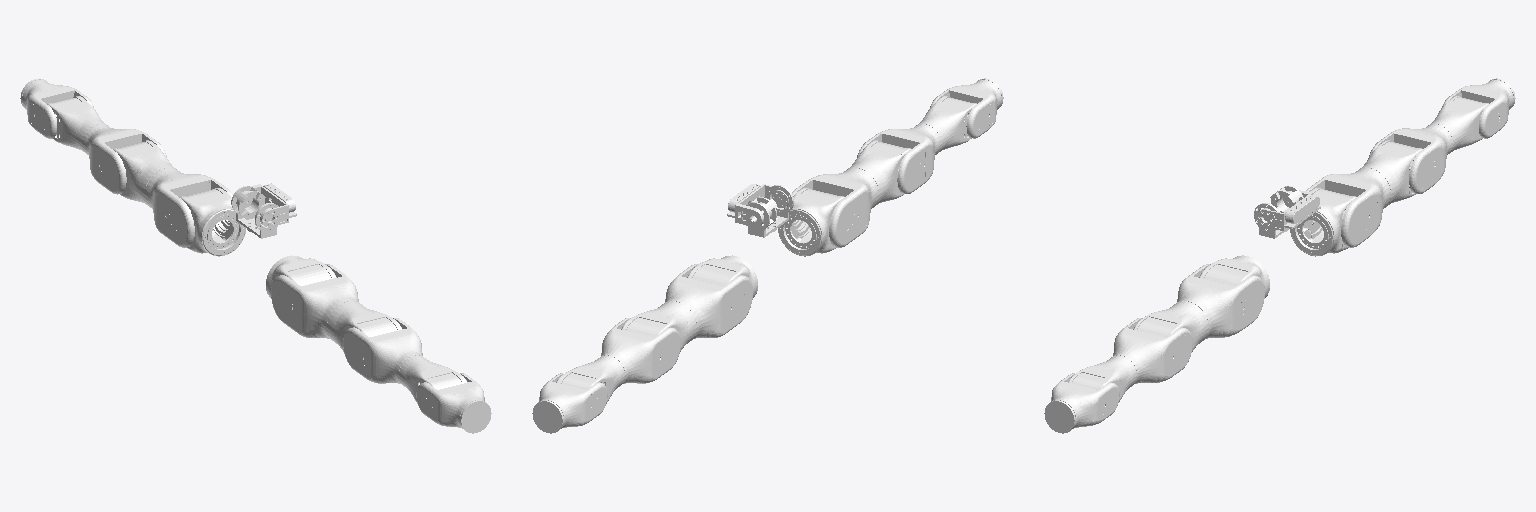
URDF robot description (shu_pr03):
<?xml version="1.0" encoding="utf-8"?>
<!-- This URDF was automatically created by SolidWorks to URDF Exporter! Originally created by Stephen Brawner (brawner@gmail.com) 
     Commit Version: 1.6.0-4-g7f85cfe  Build Version: 1.6.7995.38578
     For more information, please see http://wiki.ros.org/sw_urdf_exporter -->
<robot
  name="shu_pr03">
  <link
    name="base_link">
    <inertial>
      <origin
        xyz="0.000142803043263029 0.00257226900961791 -0.253491641440473"
        rpy="0 0 0" />
      <mass
        value="3.81243011908748" />
      <inertia
        ixx="0.0367037993908777"
        ixy="-3.00717250100034E-05"
        ixz="8.04545647630551E-07"
        iyy="0.0335739186517586"
        iyz="-1.07903733887167E-05"
        izz="0.0242460999448266" />
    </inertial>
    <visual>
      <origin
        xyz="0 0 0"
        rpy="0 0 0" />
      <geometry>
        <mesh
          filename="package://erob_description/meshes/base_link.STL" />
      </geometry>
      <material
        name="">
        <color
          rgba="0.752941176470588 0.752941176470588 0.752941176470588 1" />
      </material>
    </visual>
    <collision>
      <origin
        xyz="0 0 0"
        rpy="0 0 0" />
      <geometry>
        <mesh
          filename="package://erob_description/meshes/base_link_low.STL" />
      </geometry>
    </collision>
  </link>
  <link
    name="L_shoulder_1">
    <inertial>
      <origin
        xyz="-0.0316495841873101 0.0876970351324887 1.03954945596119E-07"
        rpy="0 0 0" />
      <mass
        value="0.0583662127067442" />
      <inertia
        ixx="8.70454107176563E-05"
        ixy="-4.49418533441545E-07"
        ixz="1.30502333237381E-11"
        iyy="5.83722225921585E-05"
        iyz="9.05520067421455E-11"
        izz="3.91504682187357E-05" />
    </inertial>
    <visual>
      <origin
        xyz="0 0 0"
        rpy="0 0 0" />
      <geometry>
        <mesh
          filename="package://erob_description/meshes/L_shoulder_1.STL" />
      </geometry>
      <material
        name="">
        <color
          rgba="1 1 1 1" />
      </material>
    </visual>
    <collision>
      <origin
        xyz="0 0 0"
        rpy="0 0 0" />
      <geometry>
        <mesh
          filename="package://erob_description/meshes/L_shoulder_1_low.STL" />
      </geometry>
    </collision>
  </link>
  <joint
    name="L_Joint_1"
    type="revolute">
    <origin
      xyz="0 0.12125 0"
      rpy="0 0 0" />
    <parent
      link="base_link" />
    <child
      link="L_shoulder_1" />
    <axis
      xyz="0 1 0" />
    <limit
      lower="-3.14"
      upper="3.14"
      effort="10"
      velocity="1" />
  </joint>
  <link
    name="L_shoulder_2">
    <inertial>
      <origin
        xyz="-0.000806846308950948 7.19790532838216E-06 -0.0541256547821431"
        rpy="0 0 0" />
      <mass
        value="0.354884998531738" />
      <inertia
        ixx="0.000926057022235404"
        ixy="9.38158254254901E-09"
        ixz="-0.000203502930755037"
        iyy="0.00101553381091218"
        iyz="1.50040428638811E-08"
        izz="0.00072160188389543" />
    </inertial>
    <visual>
      <origin
        xyz="0 0 0"
        rpy="0 0 0" />
      <geometry>
        <mesh
          filename="package://erob_description/meshes/L_shoulder_2.STL" />
      </geometry>
      <material
        name="">
        <color
          rgba="1 1 1 1" />
      </material>
    </visual>
    <collision>
      <origin
        xyz="0 0 0"
        rpy="0 0 0" />
      <geometry>
        <mesh
          filename="package://erob_description/meshes/L_shoulder_2_low.STL" />
      </geometry>
    </collision>
  </link>
  <joint
    name="L_Joint_2"
    type="revolute">
    <origin
      xyz="0 0.07875 0"
      rpy="1.5708 0 0" />
    <parent
      link="L_shoulder_1" />
    <child
      link="L_shoulder_2" />
    <axis
      xyz="1 0 0" />
    <limit
      lower="-1.57"
      upper="1.57"
      effort="10"
      velocity="1" />
  </joint>
  <link
    name="L_shoulder_3">
    <inertial>
      <origin
        xyz="-0.028173948373643 3.12268663857362E-07 -0.120975211869893"
        rpy="0 0 0" />
      <mass
        value="0.0451397306440301" />
      <inertia
        ixx="5.44670832775202E-05"
        ixy="4.04285673310756E-11"
        ixz="-2.38081150868617E-08"
        iyy="2.57895714674165E-05"
        iyz="-2.1284511486762E-10"
        izz="3.62117382012054E-05" />
    </inertial>
    <visual>
      <origin
        xyz="0 0 0"
        rpy="0 0 0" />
      <geometry>
        <mesh
          filename="package://erob_description/meshes/L_shoulder_3.STL" />
      </geometry>
      <material
        name="">
        <color
          rgba="1 1 1 1" />
      </material>
    </visual>
    <collision>
      <origin
        xyz="0 0 0"
        rpy="0 0 0" />
      <geometry>
        <mesh
          filename="package://erob_description/meshes/L_shoulder_3_low.STL" />
      </geometry>
    </collision>
  </link>
  <joint
    name="L_Joint_3"
    type="revolute">
    <origin
      xyz="0 0 -0.14525"
      rpy="0 0 0" />
    <parent
      link="L_shoulder_2" />
    <child
      link="L_shoulder_3" />
    <axis
      xyz="0 0 -1" />
    <limit
      lower="-3.14"
      upper="3.14"
      effort="10"
      velocity="1" />
  </joint>
  <link
    name="L_elbow">
    <inertial>
      <origin
        xyz="0.00255124883417135 5.18567959731375E-06 -0.0523161872028072"
        rpy="0 0 0" />
      <mass
        value="0.275804426908576" />
      <inertia
        ixx="0.000592384378540585"
        ixy="3.67649594757611E-09"
        ixz="-0.000137373682701266"
        iyy="0.000667954025206023"
        iyz="-4.00030218684643E-08"
        izz="0.000454311050303624" />
    </inertial>
    <visual>
      <origin
        xyz="0 0 0"
        rpy="0 0 0" />
      <geometry>
        <mesh
          filename="package://erob_description/meshes/L_elbow.STL" />
      </geometry>
      <material
        name="">
        <color
          rgba="1 1 1 1" />
      </material>
    </visual>
    <collision>
      <origin
        xyz="0 0 0"
        rpy="0 0 0" />
      <geometry>
        <mesh
          filename="package://erob_description/meshes/L_elbow_low.STL" />
      </geometry>
    </collision>
  </link>
  <joint
    name="L_Joint_4"
    type="revolute">
    <origin
      xyz="-0.0002495 0 -0.11475"
      rpy="0 0 0" />
    <parent
      link="L_shoulder_3" />
    <child
      link="L_elbow" />
    <axis
      xyz="1 0 0" />
    <limit
      lower="-1.57"
      upper="1.57"
      effort="10"
      velocity="1" />
  </joint>
  <link
    name="L_wrist_1">
    <inertial>
      <origin
        xyz="0.00201199076396236 5.328605041377E-07 -0.0673661823854693"
        rpy="0 0 0" />
      <mass
        value="0.160243674417616" />
      <inertia
        ixx="0.000270966474156959"
        ixy="-6.76953685935804E-09"
        ixz="3.15040567153945E-05"
        iyy="0.000284325340159115"
        iyz="-6.27256128806016E-09"
        izz="0.00017185870892482" />
    </inertial>
    <visual>
      <origin
        xyz="0 0 0"
        rpy="0 0 0" />
      <geometry>
        <mesh
          filename="package://erob_description/meshes/L_wrist_1.STL" />
      </geometry>
      <material
        name="">
        <color
          rgba="1 1 1 1" />
      </material>
    </visual>
    <collision>
      <origin
        xyz="0 0 0"
        rpy="0 0 0" />
      <geometry>
        <mesh
          filename="package://erob_description/meshes/L_wrist_1_low.STL" />
      </geometry>
    </collision>
  </link>
  <joint
    name="L_Joint_5"
    type="revolute">
    <origin
      xyz="0.0002495 0 -0.13925"
      rpy="0 0 0" />
    <parent
      link="L_elbow" />
    <child
      link="L_wrist_1" />
    <axis
      xyz="0 0 -1" />
    <limit
      lower="-3.14"
      upper="3.14"
      effort="10"
      velocity="1" />
  </joint>
  <link
    name="L_wrist_2">
    <inertial>
      <origin
        xyz="0.000131983503963817 2.03138850603246E-06 -0.0435857234048572"
        rpy="0 0 0" />
      <mass
        value="0.149600926579204" />
      <inertia
        ixx="0.000210216664542335"
        ixy="1.89625011418256E-08"
        ixz="-5.4258220312466E-05"
        iyy="0.000270899860229319"
        iyz="3.9500151112895E-08"
        izz="0.000198572811784655" />
    </inertial>
    <visual>
      <origin
        xyz="0 0 0"
        rpy="0 0 0" />
      <geometry>
        <mesh
          filename="package://erob_description/meshes/L_wrist_2.STL" />
      </geometry>
      <material
        name="">
        <color
          rgba="1 1 1 1" />
      </material>
    </visual>
    <collision>
      <origin
        xyz="0 0 0"
        rpy="0 0 0" />
      <geometry>
        <mesh
          filename="package://erob_description/meshes/L_wrist_2_low.STL" />
      </geometry>
    </collision>
  </link>
  <joint
    name="L_Joint_6"
    type="revolute">
    <origin
      xyz="0 0 -0.12075"
      rpy="0 0 0" />
    <parent
      link="L_wrist_1" />
    <child
      link="L_wrist_2" />
    <axis
      xyz="1 0 0" />
    <limit
      lower="-1.57"
      upper="1.57"
      effort="10"
      velocity="1" />
  </joint>
  <link
    name="L_wrist_3">
    <inertial>
      <origin
        xyz="-6.26653728907911E-11 -2.41230507791457E-11 -0.00299999999557188"
        rpy="0 0 0" />
      <mass
        value="0.0171059719987964" />
      <inertia
        ixx="4.69273831833649E-06"
        ixy="1.86115953368793E-23"
        ixz="2.81982774112557E-17"
        iyy="4.69273831833649E-06"
        iyz="5.00531691662904E-18"
        izz="9.31420175334466E-06" />
    </inertial>
    <visual>
      <origin
        xyz="0 0 0"
        rpy="0 0 0" />
      <geometry>
        <mesh
          filename="package://erob_description/meshes/L_wrist_3.STL" />
      </geometry>
      <material
        name="">
        <color
          rgba="1 1 1 1" />
      </material>
    </visual>
    <collision>
      <origin
        xyz="0 0 0"
        rpy="0 0 0" />
      <geometry>
        <mesh
          filename="package://erob_description/meshes/L_wrist_3_low.STL" />
      </geometry>
    </collision>
  </link>
  <joint
    name="L_Joint_7"
    type="revolute">
    <origin
      xyz="0 0 -0.1105"
      rpy="0 0 0" />
    <parent
      link="L_wrist_2" />
    <child
      link="L_wrist_3" />
    <axis
      xyz="0 0 -1" />
    <limit
      lower="-3.14"
      upper="3.14"
      effort="10"
      velocity="1" />
  </joint>
  <link
    name="R_shoulder_1">
    <inertial>
      <origin
        xyz="-0.0316495845531163 -0.0876970349353597 -1.03926649175357E-07"
        rpy="0 0 0" />
      <mass
        value="0.0583662127067446" />
      <inertia
        ixx="8.70454107214253E-05"
        ixy="4.49418413216039E-07"
        ixz="-1.30502294074232E-11"
        iyy="5.83722225883896E-05"
        iyz="9.05520072453197E-11"
        izz="3.91504682187357E-05" />
    </inertial>
    <visual>
      <origin
        xyz="0 0 0"
        rpy="0 0 0" />
      <geometry>
        <mesh
          filename="package://erob_description/meshes/R_shoulder_1.STL" />
      </geometry>
      <material
        name="">
        <color
          rgba="1 1 1 1" />
      </material>
    </visual>
    <collision>
      <origin
        xyz="0 0 0"
        rpy="0 0 0" />
      <geometry>
        <mesh
          filename="package://erob_description/meshes/R_shoulder_1_low.STL" />
      </geometry>
    </collision>
  </link>
  <joint
    name="R_Joint_1"
    type="revolute">
    <origin
      xyz="0 -0.12125 0"
      rpy="0 0 0" />
    <parent
      link="base_link" />
    <child
      link="R_shoulder_1" />
    <axis
      xyz="0 -1 0" />
    <limit
      lower="-3.14"
      upper="3.14"
      effort="10"
      velocity="1" />
  </joint>
  <link
    name="R_shoulder_2">
    <inertial>
      <origin
        xyz="-0.000806846416427642 7.19800235104984E-06 -0.0541256548563906"
        rpy="0 0 0" />
      <mass
        value="0.354884999822818" />
      <inertia
        ixx="0.000926057022187813"
        ixy="9.38288628750575E-09"
        ixz="-0.000203502931355258"
        iyy="0.00101553381179031"
        iyz="1.50040214128084E-08"
        izz="0.000721601884814612" />
    </inertial>
    <visual>
      <origin
        xyz="0 0 0"
        rpy="0 0 0" />
      <geometry>
        <mesh
          filename="package://erob_description/meshes/R_shoulder_2.STL" />
      </geometry>
      <material
        name="">
        <color
          rgba="1 1 1 1" />
      </material>
    </visual>
    <collision>
      <origin
        xyz="0 0 0"
        rpy="0 0 0" />
      <geometry>
        <mesh
          filename="package://erob_description/meshes/R_shoulder_2_low.STL" />
      </geometry>
    </collision>
  </link>
  <joint
    name="R_Joint_2"
    type="revolute">
    <origin
      xyz="0 -0.07875 0"
      rpy="-1.5708 0 0" />
    <parent
      link="R_shoulder_1" />
    <child
      link="R_shoulder_2" />
    <axis
      xyz="1 0 0" />
    <limit
      lower="-1.57"
      upper="1.57"
      effort="10"
      velocity="1" />
  </joint>
  <link
    name="R_shoulder_3">
    <inertial>
      <origin
        xyz="-0.0281739482816614 3.11148943221706E-07 -0.120975211873102"
        rpy="0 0 0" />
      <mass
        value="0.0451397306440303" />
      <inertia
        ixx="5.44670832775175E-05"
        ixy="4.157485512861E-11"
        ixz="-2.38081148537813E-08"
        iyy="2.57895714674199E-05"
        iyz="-2.12846066444746E-10"
        izz="3.62117382012045E-05" />
    </inertial>
    <visual>
      <origin
        xyz="0 0 0"
        rpy="0 0 0" />
      <geometry>
        <mesh
          filename="package://erob_description/meshes/R_shoulder_3.STL" />
      </geometry>
      <material
        name="">
        <color
          rgba="1 1 1 1" />
      </material>
    </visual>
    <collision>
      <origin
        xyz="0 0 0"
        rpy="0 0 0" />
      <geometry>
        <mesh
          filename="package://erob_description/meshes/R_shoulder_3_low.STL" />
      </geometry>
    </collision>
  </link>
  <joint
    name="R_Joint_3"
    type="revolute">
    <origin
      xyz="0 0 -0.14525"
      rpy="0 0 0" />
    <parent
      link="R_shoulder_2" />
    <child
      link="R_shoulder_3" />
    <axis
      xyz="0 0 -1" />
    <limit
      lower="-3.14"
      upper="3.14"
      effort="10"
      velocity="1" />
  </joint>
  <link
    name="R_elbow">
    <inertial>
      <origin
        xyz="0.00255124883380303 5.18568142449105E-06 -0.0523161872027784"
        rpy="0 0 0" />
      <mass
        value="0.275804426908586" />
      <inertia
        ixx="0.000592384378543926"
        ixy="3.67603954480181E-09"
        ixz="-0.000137373682699367"
        iyy="0.000667954025206063"
        iyz="-4.00038429506942E-08"
        izz="0.00045431105030028" />
    </inertial>
    <visual>
      <origin
        xyz="0 0 0"
        rpy="0 0 0" />
      <geometry>
        <mesh
          filename="package://erob_description/meshes/R_elbow.STL" />
      </geometry>
      <material
        name="">
        <color
          rgba="1 1 1 1" />
      </material>
    </visual>
    <collision>
      <origin
        xyz="0 0 0"
        rpy="0 0 0" />
      <geometry>
        <mesh
          filename="package://erob_description/meshes/R_elbow_low.STL" />
      </geometry>
    </collision>
  </link>
  <joint
    name="R_Joint_4"
    type="revolute">
    <origin
      xyz="-0.0002495 0 -0.11475"
      rpy="0 0 0" />
    <parent
      link="R_shoulder_3" />
    <child
      link="R_elbow" />
    <axis
      xyz="1 0 0" />
    <limit
      lower="-1.57"
      upper="1.57"
      effort="10"
      velocity="1" />
  </joint>
  <link
    name="R_wrist_1">
    <inertial>
      <origin
        xyz="0.00201199088857457 5.33015758530375E-07 -0.0673661823852247"
        rpy="0 0 0" />
      <mass
        value="0.160243674417618" />
      <inertia
        ixx="0.00027096647415698"
        ixy="-6.77031216076525E-09"
        ixz="3.15040567169794E-05"
        iyy="0.000284325340158321"
        iyz="-6.27074200130867E-09"
        izz="0.0001718587089256" />
    </inertial>
    <visual>
      <origin
        xyz="0 0 0"
        rpy="0 0 0" />
      <geometry>
        <mesh
          filename="package://erob_description/meshes/R_wrist_1.STL" />
      </geometry>
      <material
        name="">
        <color
          rgba="1 1 1 1" />
      </material>
    </visual>
    <collision>
      <origin
        xyz="0 0 0"
        rpy="0 0 0" />
      <geometry>
        <mesh
          filename="package://erob_description/meshes/R_wrist_1_low.STL" />
      </geometry>
    </collision>
  </link>
  <joint
    name="R_Joint_5"
    type="revolute">
    <origin
      xyz="0.0002495 0 -0.13925"
      rpy="0 0 0" />
    <parent
      link="R_elbow" />
    <child
      link="R_wrist_1" />
    <axis
      xyz="0 0 -1" />
    <limit
      lower="-3.14"
      upper="3.14"
      effort="10"
      velocity="1" />
  </joint>
  <link
    name="R_wrist_2">
    <inertial>
      <origin
        xyz="0.000131988425529694 2.03501598999845E-06 -0.0435857248604233"
        rpy="0 0 0" />
      <mass
        value="0.149600947448649" />
      <inertia
        ixx="0.000210216676861299"
        ixy="1.89466849564258E-08"
        ixz="-5.42582200545982E-05"
        iyy="0.000270899872367118"
        iyz="3.94998703749154E-08"
        izz="0.000198572842391198" />
    </inertial>
    <visual>
      <origin
        xyz="0 0 0"
        rpy="0 0 0" />
      <geometry>
        <mesh
          filename="package://erob_description/meshes/R_wrist_2.STL" />
      </geometry>
      <material
        name="">
        <color
          rgba="1 1 1 1" />
      </material>
    </visual>
    <collision>
      <origin
        xyz="0 0 0"
        rpy="0 0 0" />
      <geometry>
        <mesh
          filename="package://erob_description/meshes/R_wrist_2_low.STL" />
      </geometry>
    </collision>
  </link>
  <joint
    name="R_Joint_6"
    type="revolute">
    <origin
      xyz="0 0 -0.12075"
      rpy="0 0 0" />
    <parent
      link="R_wrist_1" />
    <child
      link="R_wrist_2" />
    <axis
      xyz="1 0 0" />
    <limit
      lower="-1.57"
      upper="1.57"
      effort="10"
      velocity="1" />
  </joint>
  <link
    name="R_wrist_3">
    <inertial>
      <origin
        xyz="3.68952207674411E-09 -2.66239252866285E-11 -0.00300000081465168"
        rpy="0 0 0" />
      <mass
        value="0.0171059719987964" />
      <inertia
        ixx="4.69273831833649E-06"
        ixy="2.42639643798554E-23"
        ixz="-2.86013603914413E-17"
        iyy="4.69273831833649E-06"
        iyz="1.0902209969118E-15"
        izz="9.31420175334466E-06" />
    </inertial>
    <visual>
      <origin
        xyz="0 0 0"
        rpy="0 0 0" />
      <geometry>
        <mesh
          filename="package://erob_description/meshes/R_wrist_3.STL" />
      </geometry>
      <material
        name="">
        <color
          rgba="1 1 1 1" />
      </material>
    </visual>
    <collision>
      <origin
        xyz="0 0 0"
        rpy="0 0 0" />
      <geometry>
        <mesh
          filename="package://erob_description/meshes/R_wrist_3_low.STL" />
      </geometry>
    </collision>
  </link>
  <joint
    name="R_Joint_7"
    type="revolute">
    <origin
      xyz="0 0 -0.1105"
      rpy="0 0 0" />
    <parent
      link="R_wrist_2" />
    <child
      link="R_wrist_3" />
    <axis
      xyz="0 0 -1" />
    <limit
      lower="-3.14"
      upper="3.14"
      effort="10"
      velocity="1" />
  </joint>
  <link
    name="neck">
    <inertial>
      <origin
        xyz="-8.52810377871549E-10 0.0113276831075547 0.0286992085248887"
        rpy="0 0 0" />
      <mass
        value="0.0696595700882319" />
      <inertia
        ixx="5.01396904582493E-05"
        ixy="1.21732155996568E-12"
        ixz="-6.7633344896566E-13"
        iyy="3.39804568425215E-05"
        iyz="8.97794535172739E-06"
        izz="4.3485065566172E-05" />
    </inertial>
    <visual>
      <origin
        xyz="0 0 0"
        rpy="0 0 0" />
      <geometry>
        <mesh
          filename="package://erob_description/meshes/neck.STL" />
      </geometry>
      <material
        name="">
        <color
          rgba="1 1 1 1" />
      </material>
    </visual>
    <collision>
      <origin
        xyz="0 0 0"
        rpy="0 0 0" />
      <geometry>
        <mesh
          filename="package://erob_description/meshes/neck_low.STL" />
      </geometry>
    </collision>
  </link>
  <joint
    name="neck_joint"
    type="revolute">
    <origin
      xyz="0 0 0.0595"
      rpy="0 0 0" />
    <parent
      link="base_link" />
    <child
      link="neck" />
    <axis
      xyz="0 0 -1" />
    <limit
      lower="-1.5708"
      upper="1.5708"
      effort="10"
      velocity="1" />
  </joint>
  <link
    name="head">
    <inertial>
      <origin
        xyz="0.0381388417137068 0.00060642251132495 0.00387580812698762"
        rpy="0 0 0" />
      <mass
        value="0.0851674722464805" />
      <inertia
        ixx="7.90670828652549E-05"
        ixy="-1.26302309740786E-05"
        ixz="8.23134546885499E-07"
        iyy="2.20260286791449E-05"
        iyz="6.23762888522944E-07"
        izz="8.77106038481213E-05" />
    </inertial>
    <visual>
      <origin
        xyz="0 0 0"
        rpy="0 0 0" />
      <geometry>
        <mesh
          filename="package://erob_description/meshes/head.STL" />
      </geometry>
      <material
        name="">
        <color
          rgba="1 1 1 1" />
      </material>
    </visual>
    <collision>
      <origin
        xyz="0 0 0"
        rpy="0 0 0" />
      <geometry>
        <mesh
          filename="package://erob_description/meshes/head_low.STL" />
      </geometry>
    </collision>
  </link>
  <joint
    name="head_joint"
    type="revolute">
    <origin
      xyz="0 0 0.0405"
      rpy="0 0 0" />
    <parent
      link="neck" />
    <child
      link="head" />
    <axis
      xyz="0 -1 0" />
    <limit
      lower="0"
      upper="3.14159"
      effort="10"
      velocity="1" />
  </joint>
</robot>

--- What the picture shows (computed from the rendered views, not written in the file) ---
Views: 3 orthographic renders of the robot side by side, from view 1: azimuth 30°, elevation 25°; view 2: azimuth 150°, elevation 25°; view 3: azimuth 330°, elevation 25°.
Robot: shu_pr03 — 17 links, 16 joints (16 revolute); root link base_link; default pose: every joint at zero.
Links seen in each view (by area): view 1: R_shoulder_2, L_shoulder_2, R_elbow, L_shoulder_1, L_elbow, R_wrist_2, L_shoulder_3, L_wrist_2, R_shoulder_3, L_wrist_1, R_wrist_1, neck (+3 smaller); view 2: L_shoulder_2, R_shoulder_2, L_elbow, R_shoulder_1, R_elbow, L_wrist_2, R_shoulder_3, R_wrist_2, L_shoulder_3, R_wrist_1, L_wrist_1, L_shoulder_1 (+3 smaller); view 3: R_shoulder_2, L_shoulder_2, R_elbow, L_elbow, L_shoulder_1, R_wrist_2, L_shoulder_3, L_wrist_2, R_shoulder_3, L_wrist_1, R_wrist_1, R_shoulder_1 (+3 smaller).
Boxes of the visible links, <box> form: R_shoulder_2: <box>271,264,358,338</box>; L_shoulder_2: <box>145,168,233,247</box>; R_elbow: <box>343,318,422,383</box>; L_shoulder_1: <box>179,188,245,256</box>; L_elbow: <box>83,124,166,194</box>; R_wrist_2: <box>416,373,484,428</box>; L_shoulder_3: <box>113,140,176,207</box>; L_wrist_2: <box>22,80,93,138</box>; R_shoulder_3: <box>327,301,402,351</box>; L_wrist_1: <box>47,96,107,152</box>; R_wrist_1: <box>399,355,467,403</box>; neck: <box>231,186,278,238</box>; L_shoulder_2: <box>665,264,752,338</box>; R_shoulder_2: <box>784,168,878,247</box>; L_elbow: <box>601,318,680,383</box>; R_shoulder_1: <box>778,188,844,256</box>; R_elbow: <box>857,124,940,193</box>; L_wrist_2: <box>539,373,607,428</box>; R_shoulder_3: <box>847,140,910,207</box>; R_wrist_2: <box>930,80,1001,138</box>; L_shoulder_3: <box>621,301,696,351</box>; R_wrist_1: <box>916,96,976,152</box>; L_wrist_1: <box>556,355,624,403</box>; L_shoulder_1: <box>687,255,757,297</box>; R_shoulder_2: <box>1177,264,1264,338</box>; L_shoulder_2: <box>1306,168,1390,247</box>; R_elbow: <box>1113,318,1192,383</box>; L_elbow: <box>1368,124,1452,193</box>; L_shoulder_1: <box>1290,188,1356,256</box>; R_wrist_2: <box>1051,373,1119,428</box>; L_shoulder_3: <box>1360,140,1422,207</box>; L_wrist_2: <box>1442,80,1513,138</box>; R_shoulder_3: <box>1133,301,1208,351</box>; L_wrist_1: <box>1428,96,1488,151</box>; R_wrist_1: <box>1068,355,1136,401</box>; R_shoulder_1: <box>1199,255,1269,297</box>.
Size in the robot's own frame: 0.1177 by 1.67 by 0.1775 metres.
16 mesh visuals loaded from 17 distinct referenced files (16 binary STL); not drawn: 1 (reference not matched to a file when rendering).
